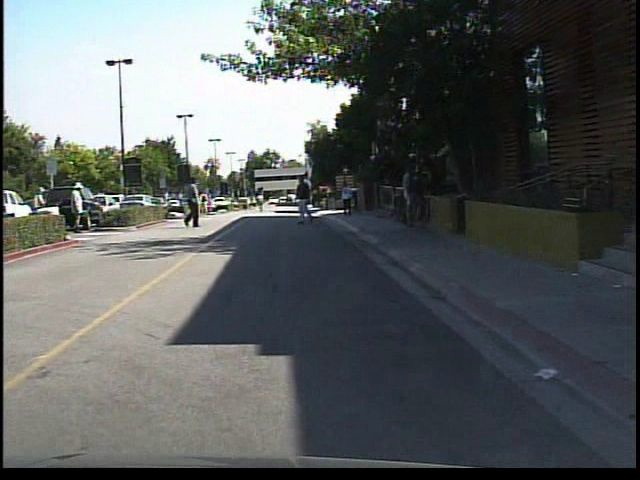person: (397, 154, 426, 235), (293, 170, 321, 228), (181, 172, 208, 232), (416, 165, 438, 228), (70, 177, 93, 236), (31, 182, 54, 238), (339, 176, 357, 221), (199, 188, 213, 218), (254, 190, 270, 213)
